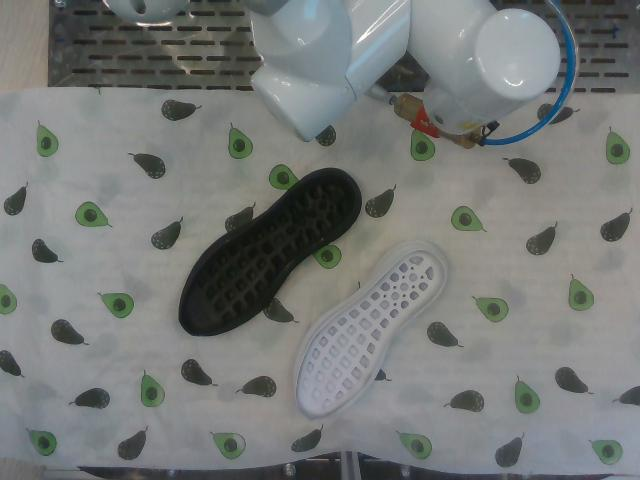shoes: (180, 175, 355, 335), (296, 250, 445, 419)
